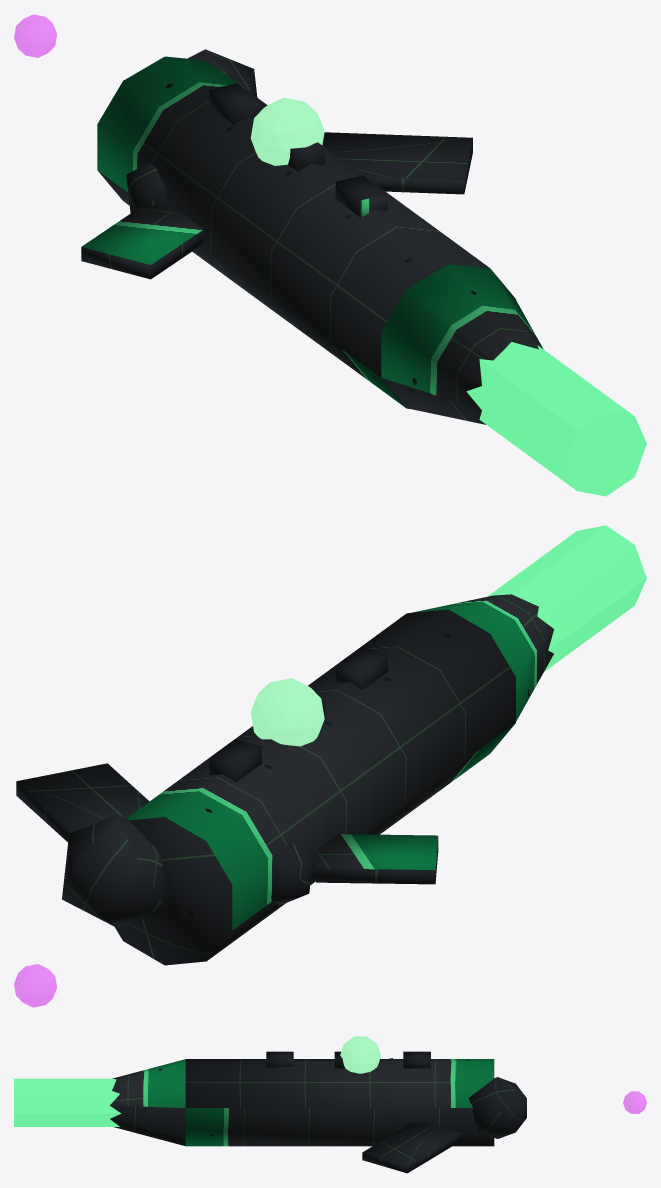
File: aln_001_scout.glb
3 views of the same model, one above another, from view 1: azimuth 30°, elevation 25°; view 2: azimuth 150°, elevation 25°; view 3: azimuth 270°, elevation 25° (orthographic). The views are drawn at different scales.
Visible parts, largest first — view 1: ALN001_Body, ALN001_Engine_C, ALN001_Core, ALN001_Weapon_T; view 2: ALN001_Body, ALN001_Engine_C, ALN001_Core, ALN001_Weapon_T; view 3: ALN001_Body, ALN001_Engine_C, ALN001_Core, ALN001_Weapon_T.
Boxes of the visible parts, bbox=[...] form: ALN001_Body: bbox=[81, 49, 543, 424]; ALN001_Engine_C: bbox=[466, 342, 646, 496]; ALN001_Core: bbox=[250, 97, 324, 165]; ALN001_Weapon_T: bbox=[14, 14, 56, 57]; ALN001_Body: bbox=[16, 594, 553, 965]; ALN001_Engine_C: bbox=[487, 525, 646, 671]; ALN001_Core: bbox=[250, 678, 324, 746]; ALN001_Weapon_T: bbox=[14, 964, 56, 1007]; ALN001_Body: bbox=[110, 1051, 526, 1173]; ALN001_Engine_C: bbox=[14, 1078, 120, 1126]; ALN001_Core: bbox=[340, 1036, 380, 1073]; ALN001_Weapon_T: bbox=[623, 1091, 646, 1113].
Bounding box in the file's own units: 1.49 × 0.68 × 3.69.
4 materials, 1 textured.
